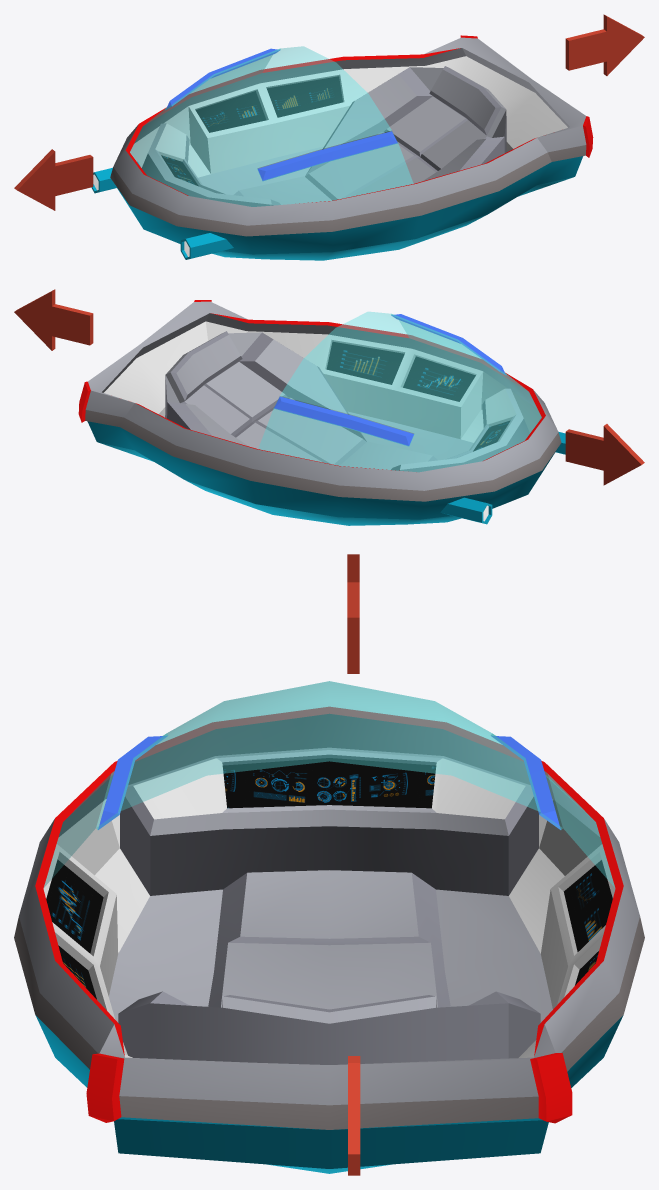
File: Horizontal_Spaceship_Blue.glb
3 views of the same model, one above another, from view 1: azimuth 30°, elevation 25°; view 2: azimuth 150°, elevation 25°; view 3: azimuth 270°, elevation 25° (orthographic). The views are drawn at different scales.
Parts seen in each view (by area): view 1: SpaceShip_01.001, arrowUP, arrowDown; view 2: SpaceShip_01.001, arrowUP, arrowDown; view 3: SpaceShip_01.001, arrowDown, arrowUP.
Boxes of the visible parts, x1=… form: SpaceShip_01.001: x1=91, y1=35, x2=593, y2=260; arrowUP: x1=565, y1=14, x2=644, y2=75; arrowDown: x1=14, y1=149, x2=93, y2=210; SpaceShip_01.001: x1=78, y1=300, x2=565, y2=525; arrowUP: x1=14, y1=289, x2=93, y2=350; arrowDown: x1=565, y1=424, x2=644, y2=485; SpaceShip_01.001: x1=14, y1=681, x2=644, y2=1173; arrowDown: x1=347, y1=554, x2=359, y2=673; arrowUP: x1=348, y1=1056, x2=360, y2=1175.
Size of the model in its own units: 7.62 by 1.87 by 3.51.
5 materials, 5 textured.
